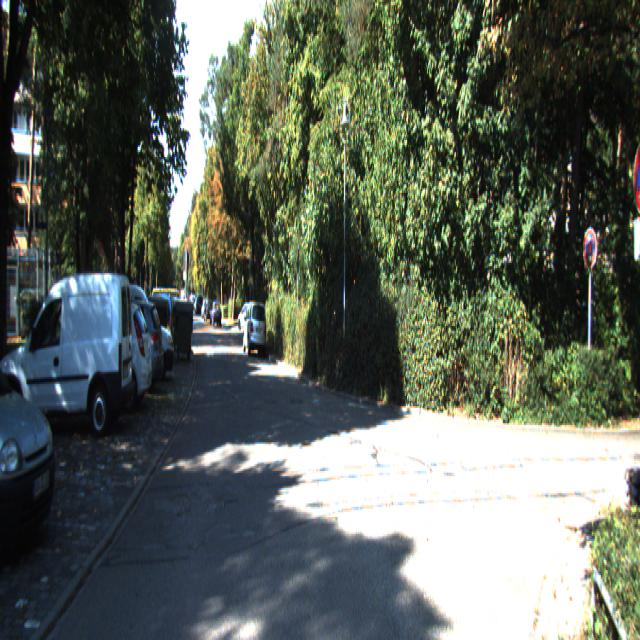Car: (3, 266, 135, 442), (0, 227, 66, 571), (48, 296, 153, 419), (81, 303, 166, 404), (104, 282, 174, 382), (243, 301, 268, 359)
